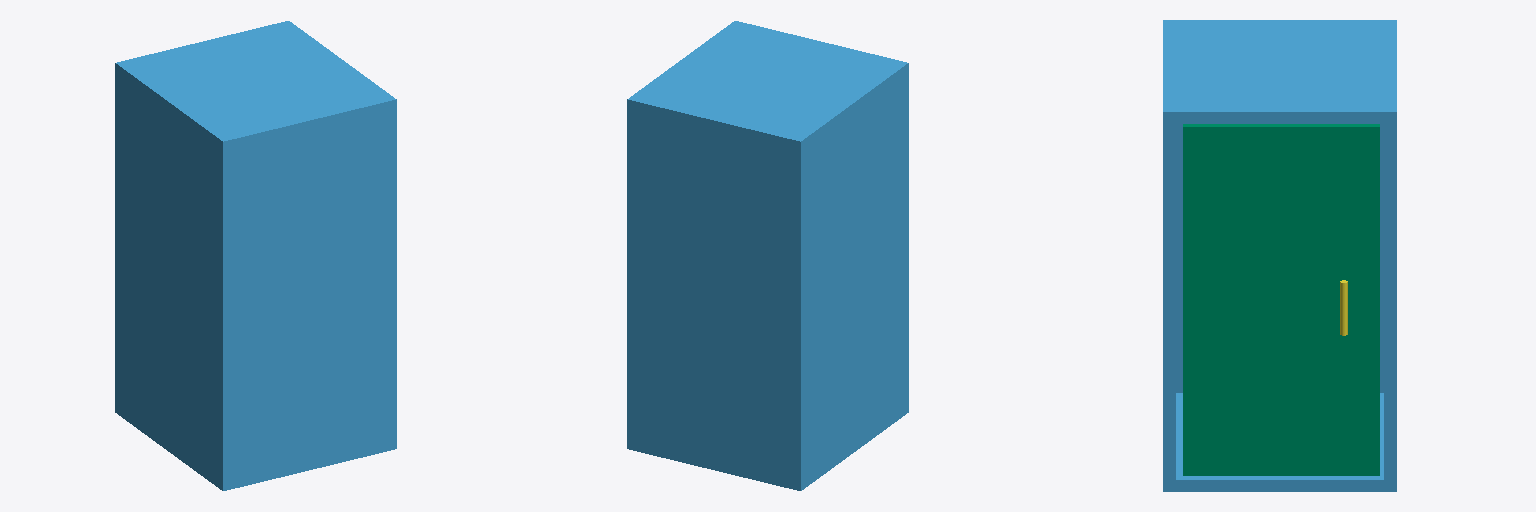
URDF robot description (my_cabinet):
<?xml version="1.0" ?>
<robot name="my_cabinet">
	<link name="world"/>
	<joint name="virtual_joint" type="fixed">
		<parent link="world"/>
		<child link="base_cabinet_link"/>
		<origin xyz="0.0 0.0 0.0" rpy="0.0 0.0 0.0"/>
	</joint>
	<link name="base_cabinet_link">
		<visual>
			<origin xyz="0.0 -0.0025 -0.27971201433364973" rpy="0.0 0.0 0.0"/>
			<geometry>
				<box size="0.3 0.3226894453829487 0.018"/>
			</geometry>
		</visual>
		<collision name="base_cabinet_link_collision_0">
			<origin xyz="0.0 -0.0025 -0.27971201433364973" rpy="0.0 0.0 0.0"/>
			<geometry>
				<box size="0.3 0.3226894453829487 0.018"/>
			</geometry>
		</collision>
		<visual>
			<origin xyz="0.0 0.14984472269147436 0.0" rpy="0.0 0.0 0.0"/>
			<geometry>
				<box size="0.3 0.018 0.5774240286672995"/>
			</geometry>
		</visual>
		<collision name="base_cabinet_link_collision_1">
			<origin xyz="0.0 0.14984472269147436 0.0" rpy="0.0 0.0 0.0"/>
			<geometry>
				<box size="0.3 0.018 0.5774240286672995"/>
			</geometry>
		</collision>
		<visual>
			<origin xyz="0.0 -0.15484472269147437 0.0" rpy="0.0 0.0 0.0"/>
			<geometry>
				<box size="0.3 0.018 0.5774240286672995"/>
			</geometry>
		</visual>
		<collision name="base_cabinet_link_collision_2">
			<origin xyz="0.0 -0.15484472269147437 0.0" rpy="0.0 0.0 0.0"/>
			<geometry>
				<box size="0.3 0.018 0.5774240286672995"/>
			</geometry>
		</collision>
		<visual>
			<origin xyz="0.0 -0.0025 0.27971201433364973" rpy="0.0 0.0 0.0"/>
			<geometry>
				<box size="0.3 0.3226894453829487 0.018"/>
			</geometry>
		</visual>
		<collision name="base_cabinet_link_collision_3">
			<origin xyz="0.0 -0.0025 0.27971201433364973" rpy="0.0 0.0 0.0"/>
			<geometry>
				<box size="0.3 0.3226894453829487 0.018"/>
			</geometry>
		</collision>
		<visual>
			<origin xyz="-0.141 -0.0025 0.0" rpy="0.0 0.0 0.0"/>
			<geometry>
				<box size="0.018 0.3226894453829487 0.5774240286672995"/>
			</geometry>
		</visual>
		<collision name="base_cabinet_link_collision_4">
			<origin xyz="-0.141 -0.0025 0.0" rpy="0.0 0.0 0.0"/>
			<geometry>
				<box size="0.018 0.3226894453829487 0.5774240286672995"/>
			</geometry>
		</collision>
		<inertial>
			<mass value="0.200000"/>
			<inertia ixx="0.007292" ixy="0.0" ixz="0.0" iyy="0.007057" iyz="0.0" izz="0.003235"/>
		</inertial>
	</link>
	<link name="door_link">
		<visual>
			<origin xyz="0.0 -0.13584472269147435 0.0"/>
			<geometry>
				<box size="0.018 0.2716894453829487 0.5314240286672994"/>
			</geometry>
		</visual>
		<collision name="door_link_collision">
			<origin xyz="0.0 -0.13584472269147435 0.0"/>
			<geometry>
				<box size="0.018 0.2716894453829487 0.5314240286672994"/>
			</geometry>
		</collision>
		<inertial>
			<mass value="0.200000"/>
			<inertia ixx="0.005937" ixy="0.0" ixz="0.0" iyy="0.004712" iyz="0.0" izz="0.001236"/>
		</inertial>
	</link>
	<joint name="door_joint" type="revolute">
		<origin xyz="0.141 -0.13584472269147435 0.0" rpy="0.000000 -0.000000 3.141593"/>
		<axis xyz="0 0 1"/>
		<parent link="base_cabinet_link"/>
		<child link="door_link"/>
		<limit effort="50" lower="-1.658062789394613" upper="0" velocity="10"/>
		<dynamics friction="3.5" damping="3.5"/>
	</joint>
	<link name="handle_link">
		<visual>
			<origin xyz="0.0 0.0 0.0" rpy="0.0 0.0 0.0"/>
			<geometry>
				<cylinder length="0.08" radius="0.005"/>
			</geometry>
		</visual>
		<collision name="handle_link_collision_0">
			<origin xyz="0.0 0.0 0.0" rpy="0.0 0.0 0.0"/>
			<geometry>
				<cylinder length="0.08" radius="0.005"/>
			</geometry>
		</collision>
		<visual>
			<origin xyz="-0.01 0.0 0.02" rpy="0.0 1.5707963267948966 0.0"/>
			<geometry>
				<cylinder length="0.02" radius="0.003"/>
			</geometry>
		</visual>
		<collision name="handle_link_collision_1">
			<origin xyz="-0.01 0.0 0.02" rpy="0.0 1.5707963267948966 0.0"/>
			<geometry>
				<cylinder length="0.01" radius="0.003"/>
			</geometry>
		</collision>
		<visual>
			<origin xyz="-0.01 0.0 -0.02" rpy="0.0 1.5707963267948966 0.0"/>
			<geometry>
				<cylinder length="0.02" radius="0.003"/>
			</geometry>
		</visual>
		<collision name="handle_link_collision_2">
			<origin xyz="-0.01 0.0 -0.02" rpy="0.0 1.5707963267948966 0.0"/>
			<geometry>
				<cylinder length="0.02" radius="0.003"/>
			</geometry>
		</collision>
		<inertial>
			<mass value="0.050000"/>
			<inertia ixx="0.000027" ixy="0.0" ixz="0.0" iyy="0.000029" iyz="0.0" izz="0.000003"/>
		</inertial>
	</link>
	<joint name="handle_joint" type="fixed">
		<origin xyz="-0.028999999999999998 -0.2216894453829487 0.0" rpy="0.000000 -0.000000 3.141593"/>
		<parent link="door_link"/>
		<child link="handle_link"/>
	</joint>
	<gazebo reference="base_cabinet_link">
		<sensor name="main_sensor" type="contact">
			<selfCollide>true</selfCollide>
			<alwaysOn>true</alwaysOn>
			<updateRate>5.0</updateRate>
			<material>Gazebo/Red</material>
			<contact>
				<collision>base_cabinet_link_collision_0_collision</collision>
				<collision>base_cabinet_link_collision_1_collision</collision>
				<collision>base_cabinet_link_collision_2_collision</collision>
				<collision>base_cabinet_link_collision_3_collision</collision>
				<collision>base_cabinet_link_collision_4_collision</collision>
			</contact>
			<plugin name="gazebo_ros_bumper_controller" filename="libgazebo_ros_bumper.so">
				<bumperTopicName>/contact</bumperTopicName>
				<frameName>world</frameName>
			</plugin>
		</sensor>
	</gazebo>
	<gazebo reference="door_link">
		<sensor name="main_sensor" type="contact">
			<selfCollide>true</selfCollide>
			<alwaysOn>true</alwaysOn>
			<updateRate>5.0</updateRate>
			<material>Gazebo/Red</material>
			<contact>
				<collision>door_link_collision_collision</collision>
			</contact>
			<plugin name="gazebo_ros_bumper_controller" filename="libgazebo_ros_bumper.so">
				<bumperTopicName>/contact_door</bumperTopicName>
				<frameName>contact_door</frameName>
			</plugin>
		</sensor>
	</gazebo>
	<gazebo reference="door_link">
		<mu>3.0</mu>
		<mu2>3.0</mu2>
		<kp>10000000</kp>
		<kd>100</kd>
	</gazebo>
</robot>

--- Render facts (derived) ---
3 views of the same robot in one strip: view 1: azimuth 30°, elevation 25°; view 2: azimuth 150°, elevation 25°; view 3: azimuth 270°, elevation 25° (orthographic).
Model my_cabinet with 4 links and 3 joints (1 revolute, 2 fixed), rooted at world, posed all joints at 0.
Visible links, largest first — view 1: base_cabinet_link; view 2: base_cabinet_link; view 3: door_link, base_cabinet_link.
Link boxes in pixels (x1,y1,x2,y2): base_cabinet_link: [115, 21, 396, 490]; base_cabinet_link: [627, 21, 908, 490]; door_link: [1183, 124, 1379, 475]; base_cabinet_link: [1163, 20, 1396, 491].
Size in the robot's own frame: 0.325 by 0.3227 by 0.5774 metres.
Geometry: primitives only (box / cylinder / sphere), no mesh files.
